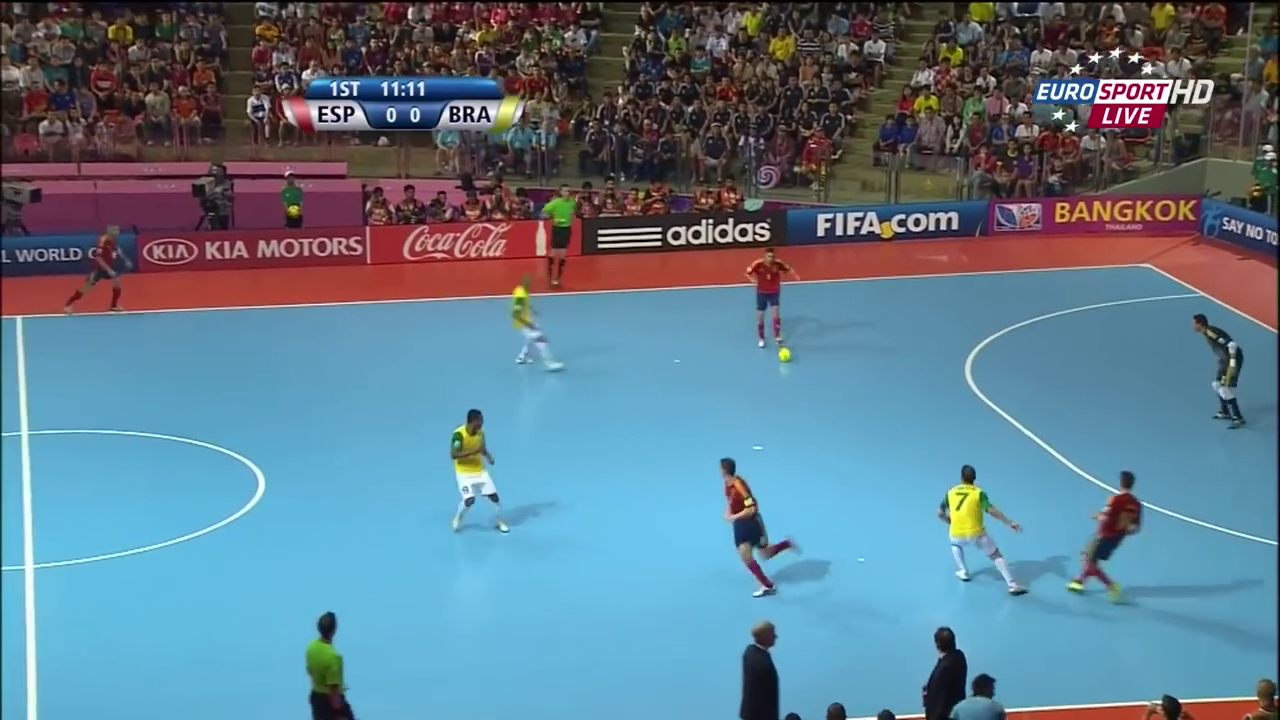ball: (285, 203, 300, 218), (779, 346, 792, 363)
person: (706, 453, 802, 604), (930, 463, 1027, 594), (1062, 467, 1147, 603), (443, 406, 507, 542), (1179, 308, 1251, 427), (495, 270, 561, 377), (747, 242, 798, 348)
